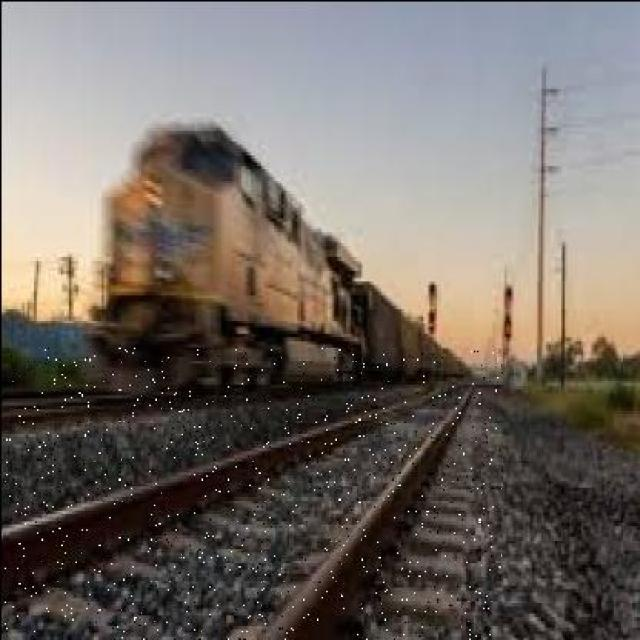rail: (3, 347, 501, 638)
